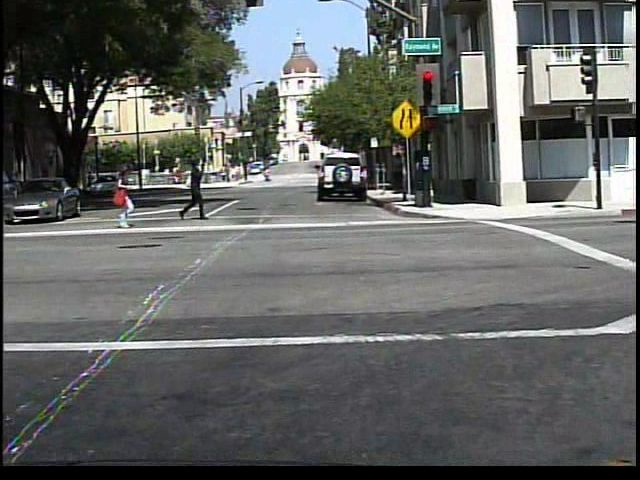person: (173, 158, 211, 223), (103, 162, 138, 232), (265, 167, 266, 185), (264, 168, 265, 186)
